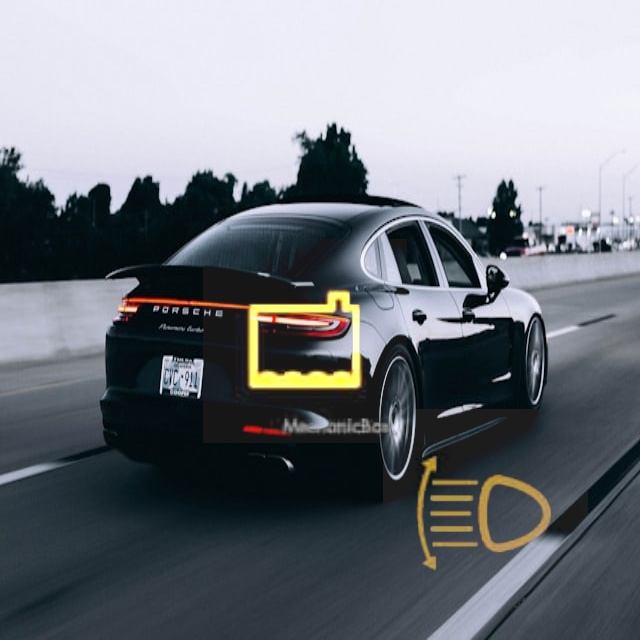symbol: (383, 409, 588, 614), (203, 239, 407, 443)
